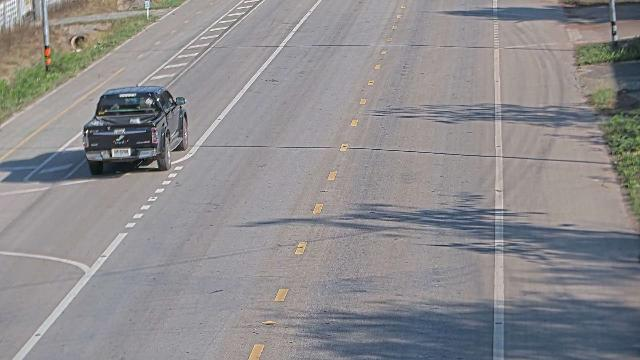pickup-truck: (81, 84, 189, 175)
